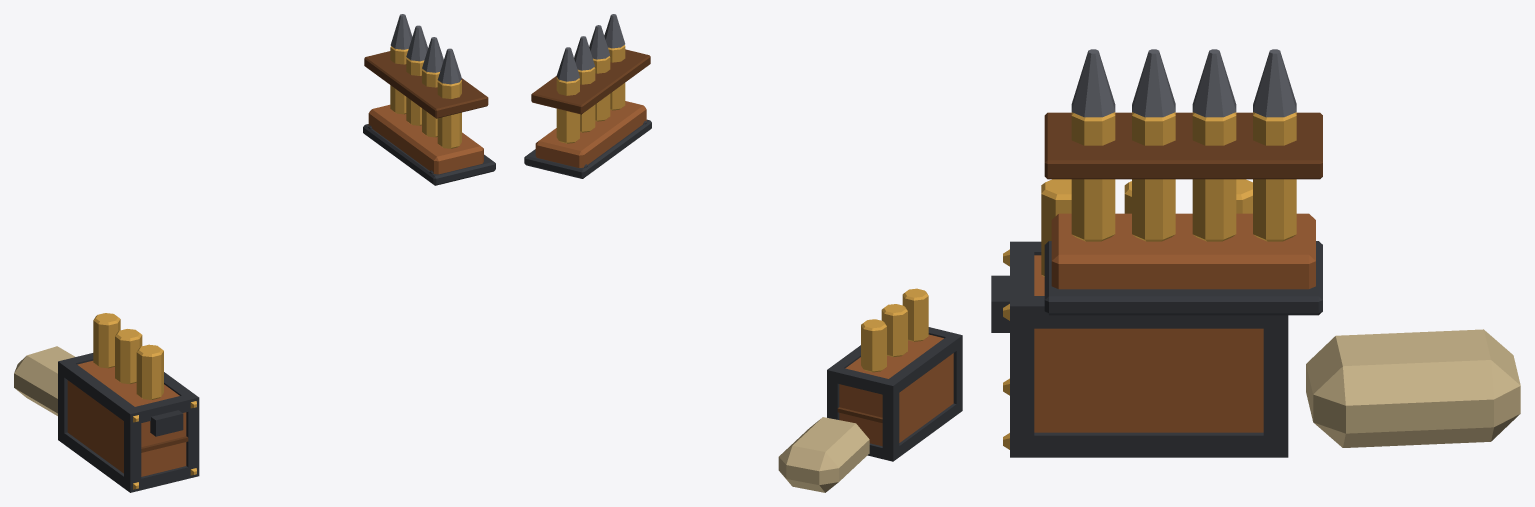
Rendered from SniperDressA1.obj.
3 views of the same model, side by side, from view 1: azimuth 30°, elevation 25°; view 2: azimuth 150°, elevation 25°; view 3: azimuth 270°, elevation 25° (orthographic). The views are drawn at different scales.
Parts seen in each view (by area): view 1: SniperDressA1; view 2: SniperDressA1; view 3: SniperDressA1.
Boxes of the visible parts, <box> form: SniperDressA1: <box>14,14,495,492</box>; SniperDressA1: <box>524,14,962,492</box>; SniperDressA1: <box>991,49,1520,457</box>.
Size of the model in its own units: 1.2 by 1.05 by 0.7615.
